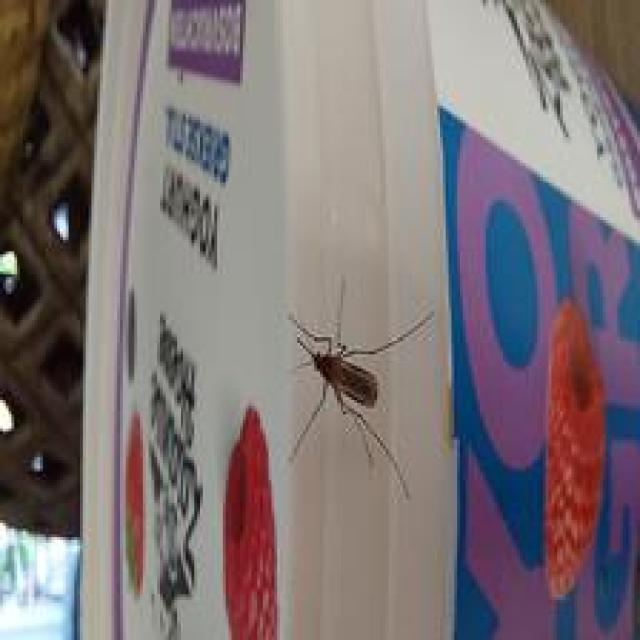Culex: (284, 276, 436, 501)
